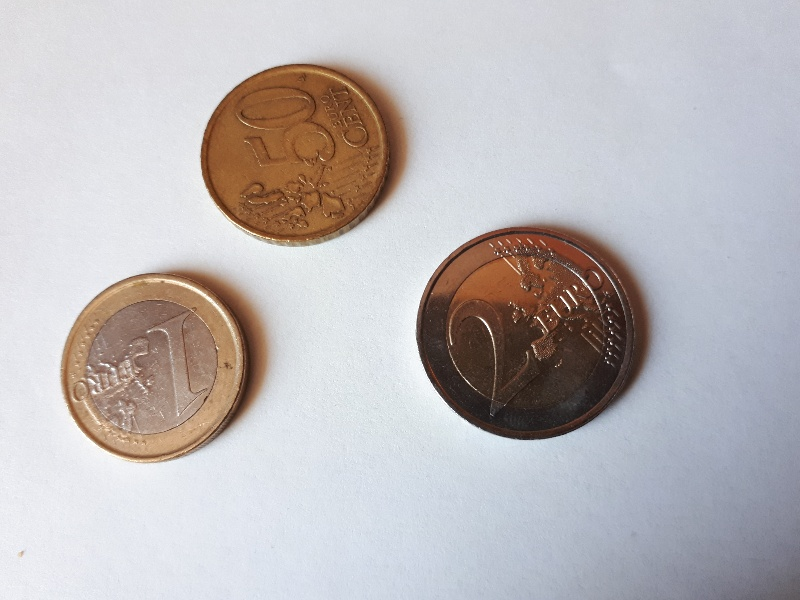1 euro: (57, 268, 251, 468)
2 euro: (412, 227, 652, 444)
50 cent: (197, 60, 395, 250)
